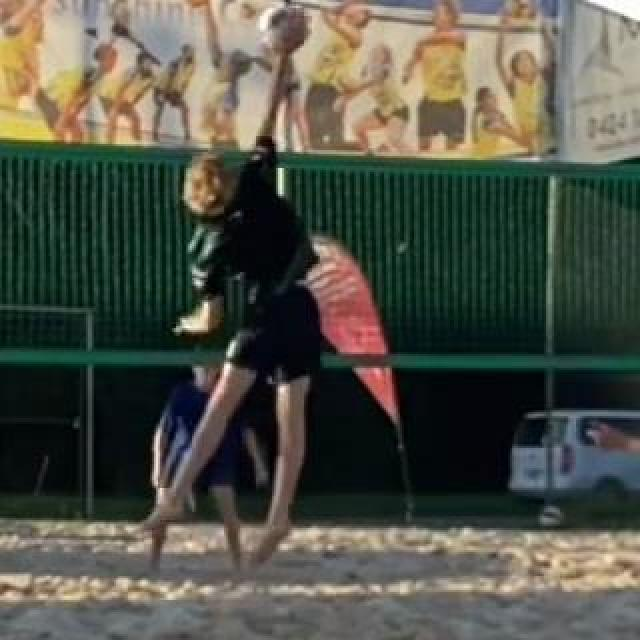volleyball: (263, 5, 307, 53)
